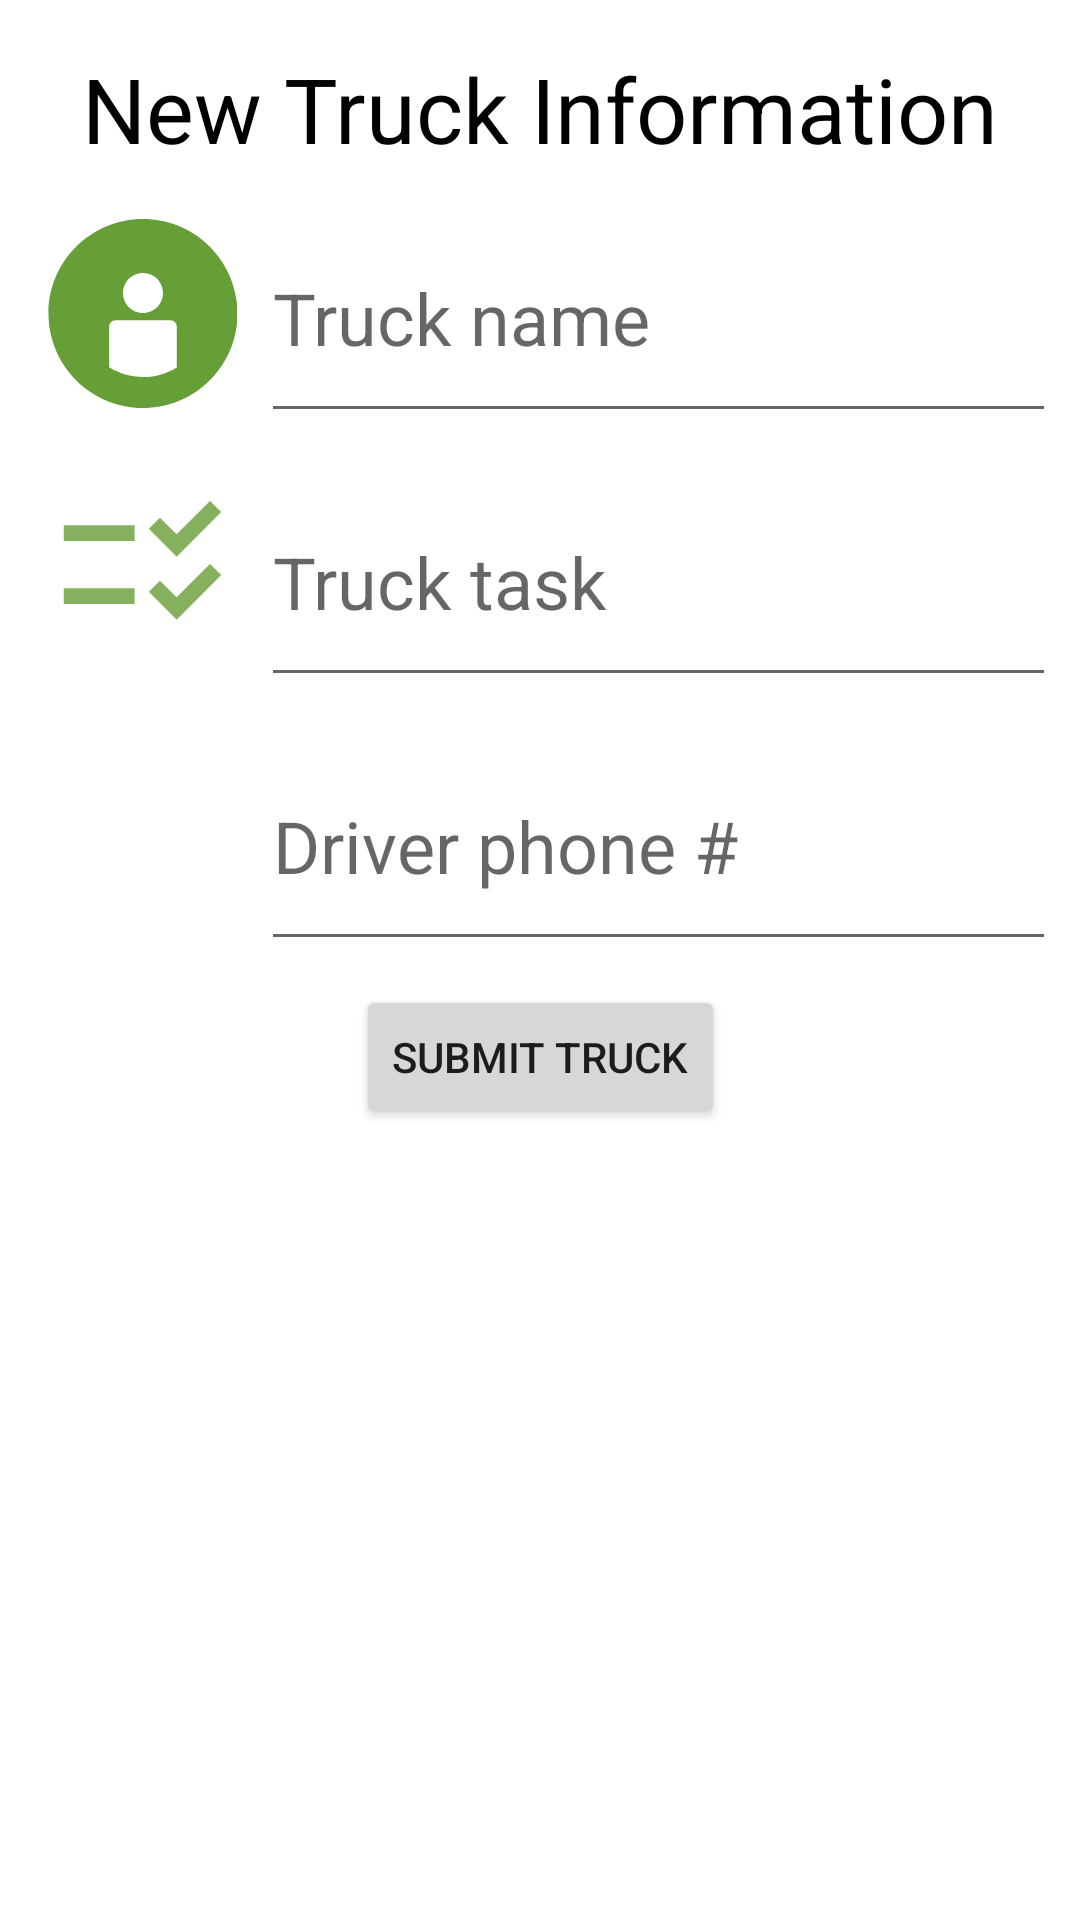

Locate icon controls on the screen. Image size 1080×1920, boxes as [x1=x1, y1=y1, x2=x2, y2=y2].
tasks: [x1=63, y1=501, x2=221, y2=620]
